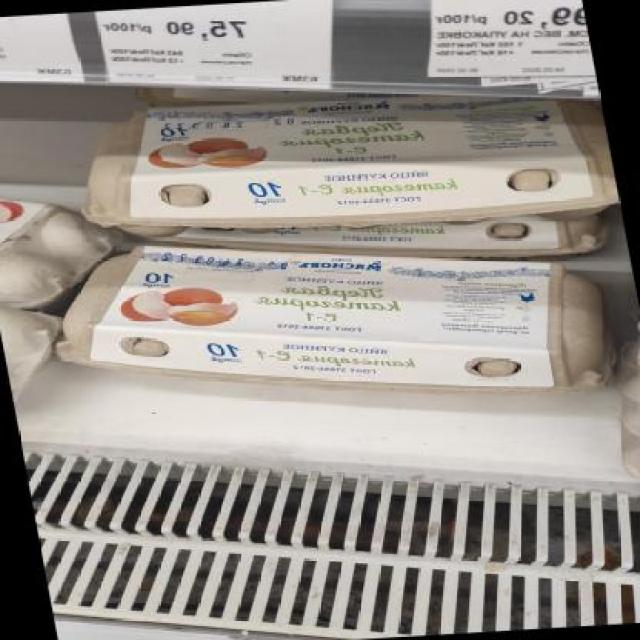Egg: (40, 216, 632, 419), (63, 84, 620, 242)
